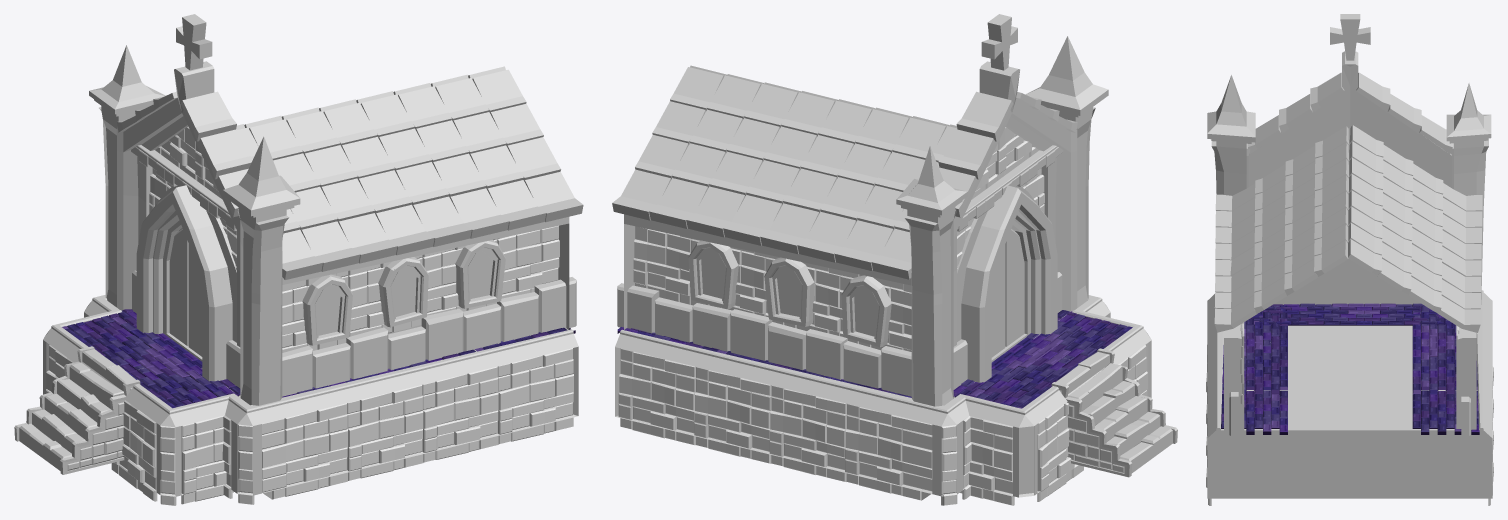
The model's file is Chapel.fbx.
3 renders of one model, left to right at view 1: azimuth 30°, elevation 25°; view 2: azimuth 150°, elevation 25°; view 3: azimuth 270°, elevation 25°, orthographic. The views are drawn at different scales.
Parts seen in each view (by area): view 1: Plane.011, Cube.041, Cube.040, Cube.049, Cube.060, StairSingle.001, WallMidOneSide.022, FloorTiles.020, WallMidOneSide.019, WallMidOneSide.018, WallMidOneSide.015, Plane.013 (+22 smaller); view 2: Plane.011, Cube.041, Cube.040, Cube.050, Cube.060, StairSingle.001, WallMidOneSide.021, FloorTiles.020, WallMidOneSide.016, WallMidOneSide.017, WallMidOneSide.020, Plane.012 (+21 smaller); view 3: Cube.040, Plane.011, Cube.041, FloorTiles.021, FloorTiles.025, FloorTiles.022, Plane.012, FloorTiles.023, Plane.013, FloorTiles.024, Cube.049, Cube.060 (+2 smaller).
Part boxes in pixels (box(x1,y1,x2,y2)): Plane.011: box(236, 66, 583, 279); Cube.041: box(89, 14, 569, 405); Cube.040: box(43, 295, 578, 496); Cube.049: box(282, 277, 576, 396); Cube.060: box(136, 185, 236, 381); StairSingle.001: box(14, 346, 140, 474); WallMidOneSide.022: box(262, 403, 347, 499); FloorTiles.020: box(62, 310, 238, 408); WallMidOneSide.019: box(347, 385, 423, 480); WallMidOneSide.018: box(422, 366, 498, 462); WallMidOneSide.015: box(497, 348, 573, 443); Plane.013: box(181, 91, 252, 217); Plane.011: box(612, 65, 957, 279); Cube.041: box(624, 14, 1108, 406); Cube.040: box(615, 295, 1151, 497); Cube.050: box(617, 283, 911, 396); Cube.060: box(957, 185, 1057, 382); StairSingle.001: box(1051, 348, 1177, 477); WallMidOneSide.021: box(845, 403, 932, 500); FloorTiles.020: box(955, 311, 1132, 408); WallMidOneSide.016: box(618, 348, 695, 445); WallMidOneSide.017: box(694, 367, 771, 463); WallMidOneSide.020: box(769, 385, 846, 481); Plane.012: box(938, 91, 1013, 217); Cube.040: box(1207, 290, 1492, 498); Plane.011: box(1214, 125, 1482, 332); Cube.041: box(1207, 14, 1491, 430); FloorTiles.021: box(1251, 303, 1450, 325); FloorTiles.025: box(1222, 305, 1287, 390); FloorTiles.022: box(1412, 306, 1477, 390); Plane.012: box(1356, 72, 1452, 155); FloorTiles.023: box(1412, 390, 1479, 434); Plane.013: box(1247, 72, 1344, 154); FloorTiles.024: box(1221, 390, 1287, 434); Cube.049: box(1229, 392, 1238, 435); Cube.060: box(1277, 287, 1419, 302).
Bounding box in the file's own units: 15.3 × 21.31 × 24.87.
